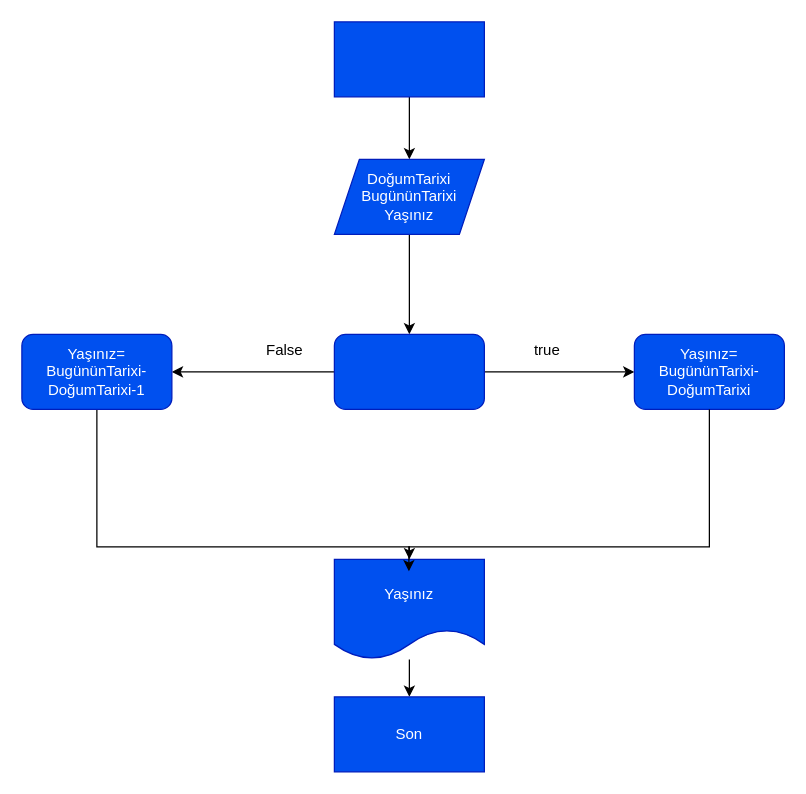
Image size: 806x794. Some labels were removed from this diagram. The box of each missing label's shape, as (x1, y1, x2, y2) in pixels:
Bu il yaşınız olubmu?: (333, 333, 484, 409)
Start: (333, 21, 484, 97)
